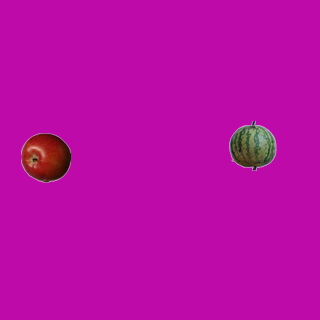Apple Braeburn: (20, 132, 70, 182)
Watermelon: (227, 120, 277, 170)
